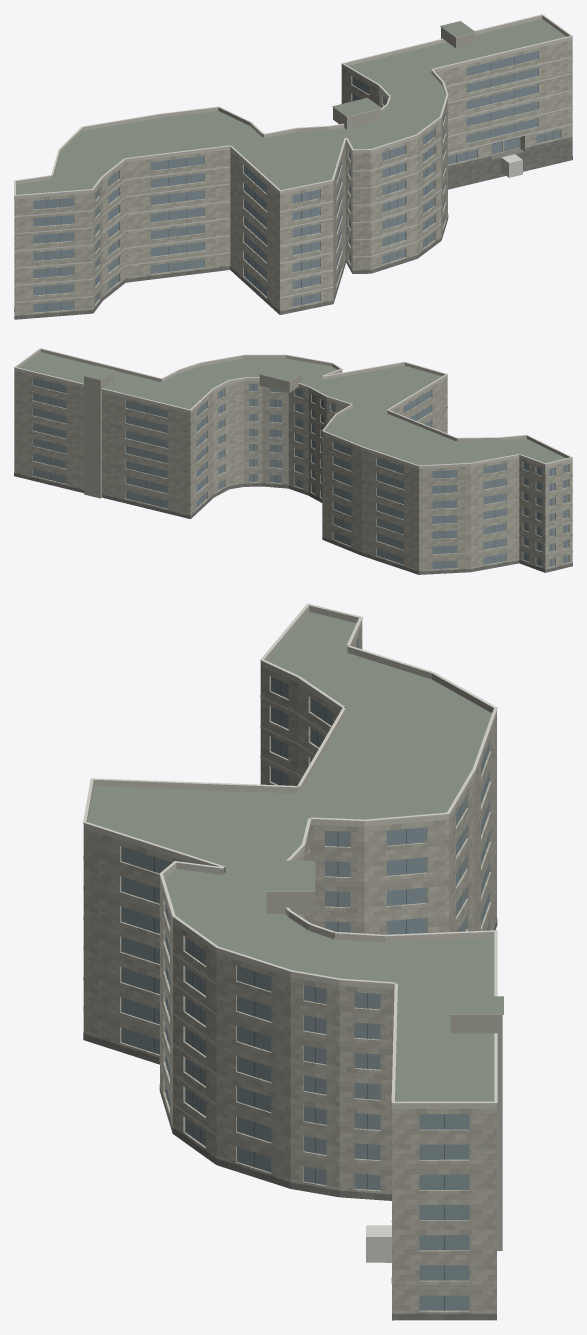
3 views of the same model, one above another, from view 1: azimuth 30°, elevation 25°; view 2: azimuth 150°, elevation 25°; view 3: azimuth 270°, elevation 25° (orthographic). The views are drawn at different scales.
Visible parts, largest first — view 1: b49__wall, b49__roof, b49__glass, b49__trim, b49__base, b49__parapet, b49__wall2, b49__frame, b49__entranceStair; view 2: b49__wall, b49__roof, b49__glass, b49__parapet, b49__wall2, b49__trim, b49__base, b49__frame; view 3: b49__wall, b49__roof, b49__glass, b49__parapet, b49__trim, b49__wall2, b49__base, b49__frame, b49__entranceStair.
Boxes of the visible parts, box(x1,y1,x2,y2) form: b49__wall: box(14, 39, 572, 315); b49__roof: box(16, 19, 572, 194); b49__glass: box(33, 51, 560, 312); b49__trim: box(14, 14, 572, 303); b49__base: box(14, 137, 572, 319); b49__parapet: box(14, 15, 572, 199); b49__wall2: box(333, 27, 474, 129); b49__frame: box(46, 57, 552, 311); b49__entranceStair: box(501, 154, 522, 177); b49__wall: box(14, 370, 572, 574); b49__roof: box(19, 352, 565, 465); b49__glass: box(33, 378, 568, 569); b49__parapet: box(14, 349, 572, 469); b49__wall2: box(84, 371, 301, 498); b49__trim: box(14, 348, 572, 551); b49__base: box(14, 473, 572, 574); b49__frame: box(50, 382, 565, 568); b49__wall: box(83, 624, 496, 1313); b49__roof: box(87, 611, 503, 1320); b49__glass: box(121, 636, 489, 1310); b49__parapet: box(83, 605, 496, 1108); b49__trim: box(83, 603, 503, 1251); b49__wall2: box(266, 892, 502, 1250); b49__base: box(83, 919, 497, 1320); b49__frame: box(154, 639, 460, 1310); b49__entranceStair: box(366, 1225, 391, 1262).
Bounding box in the file's own units: 128 × 28.37 × 45.5.
Materials: 10 (2 with a texture image).
